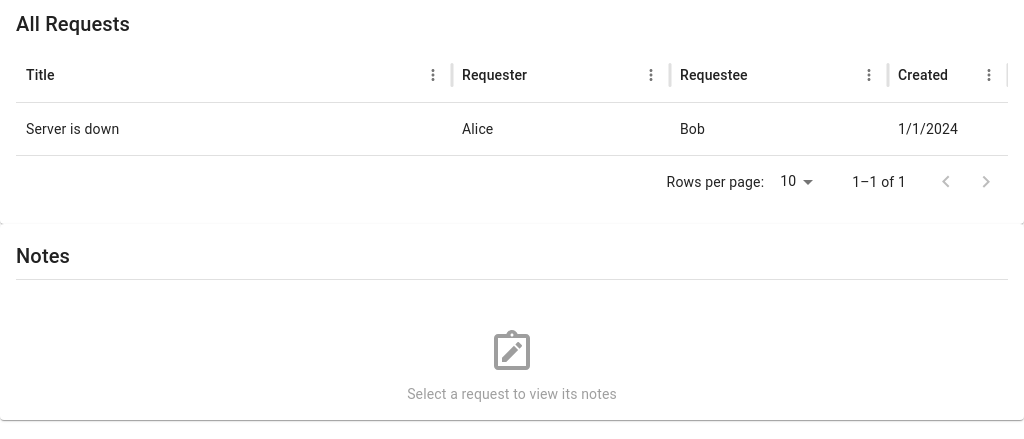
Scenario: cross-widget selection › clicking a RequestListWidget row loads its details in NotesWidget
Expected: the text "Select a request to view its notes" is shown, [407,384,617,404]
Step 1. Click the row "Server is down Alice Bob 1/1/2024" → (492, 129), box [26,121,958,137]
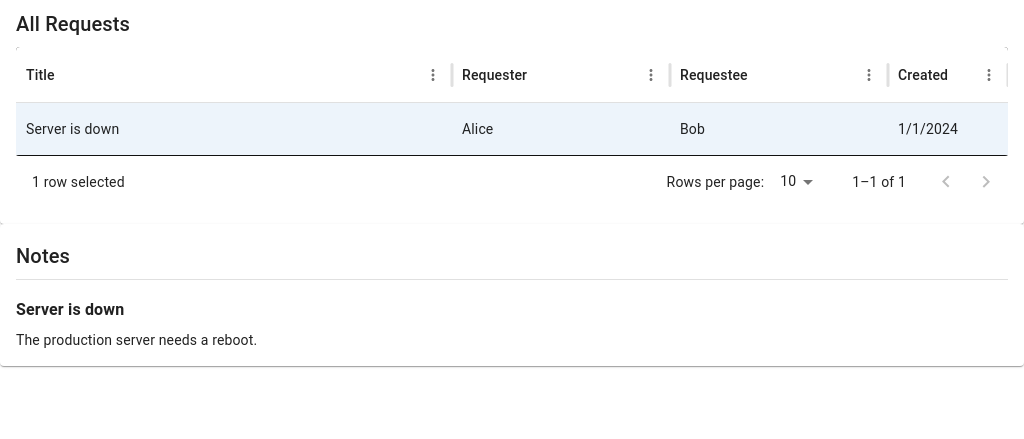
Result: the text "The production server needs a reboot." is shown at [16,332,257,348]
